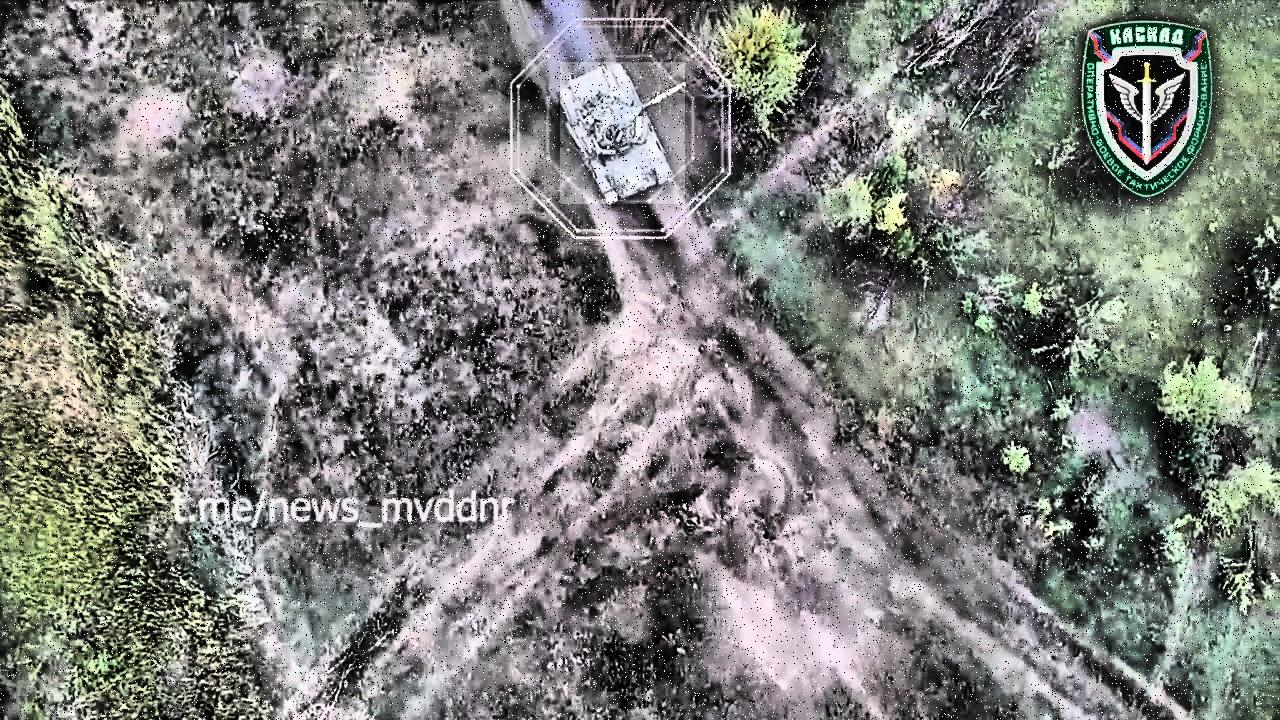military-vehicle: (561, 62, 686, 204)
